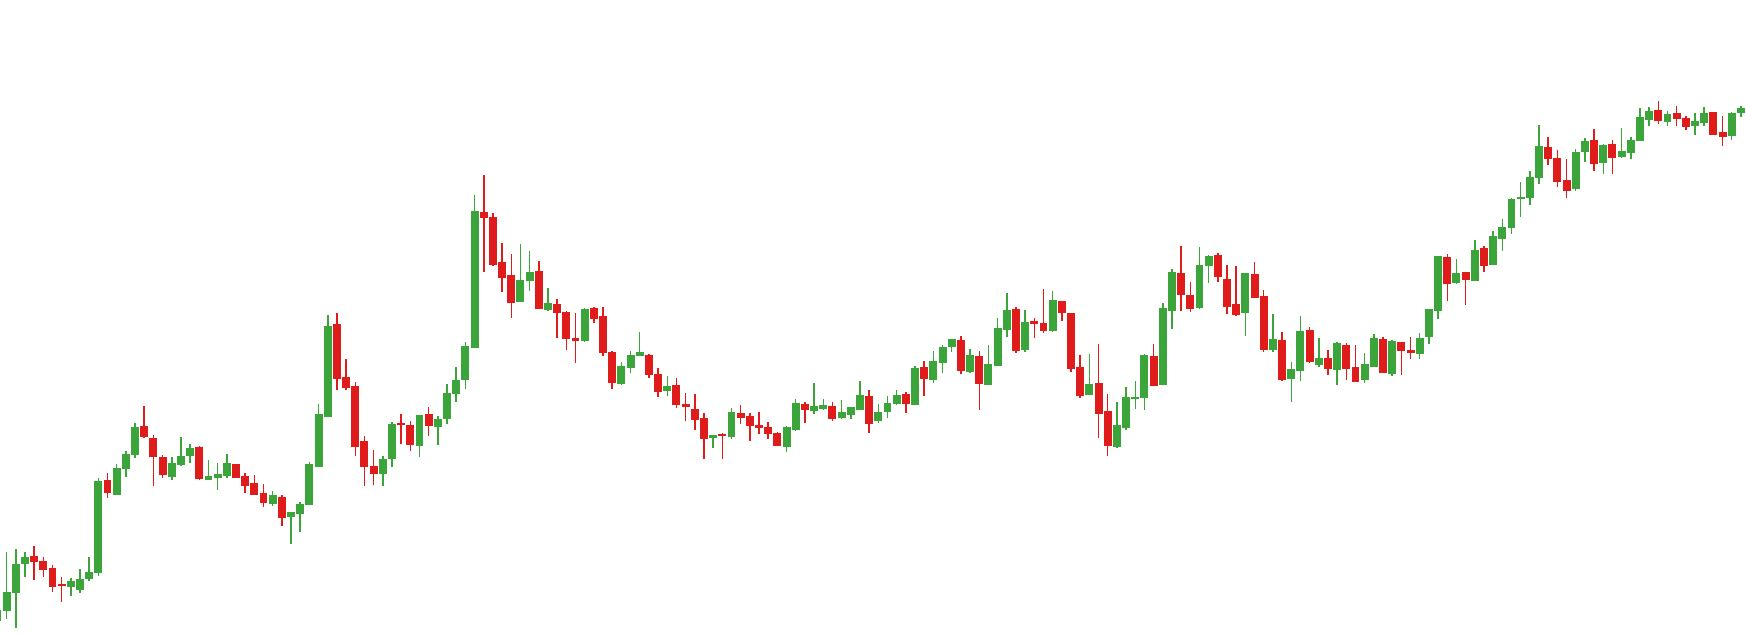buy: (920, 348, 994, 416)
